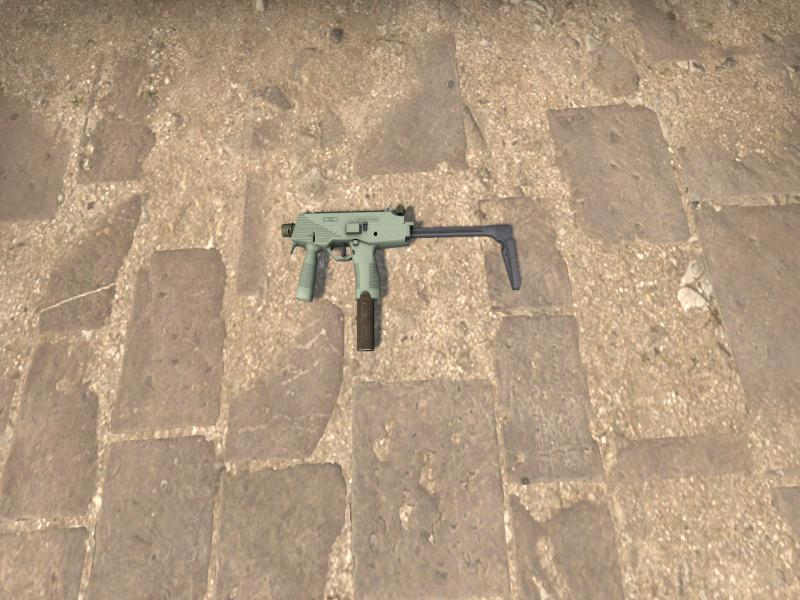MP9: (282, 204, 522, 350)
